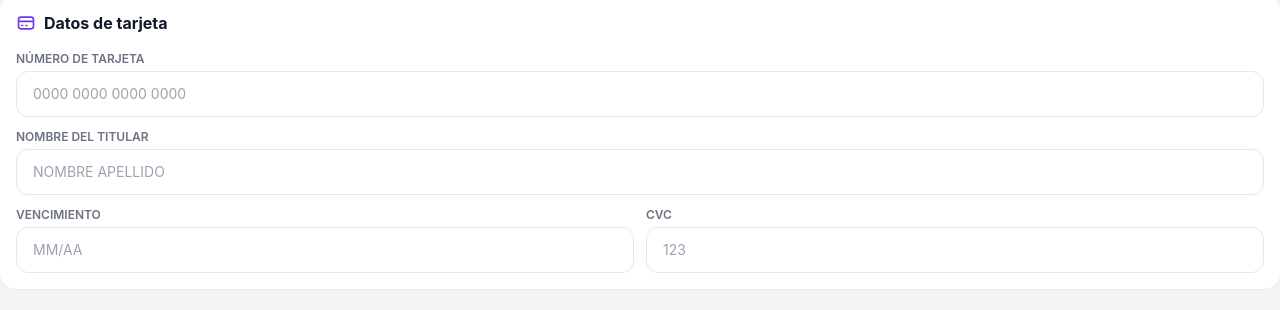
Test: CardForm › should show error on blur when card holder is too short
The image size is (1280, 310).
In the field with placeholder "NOMBRE APELLIDO": (640, 172) [16,149,1264,195], type "AB"
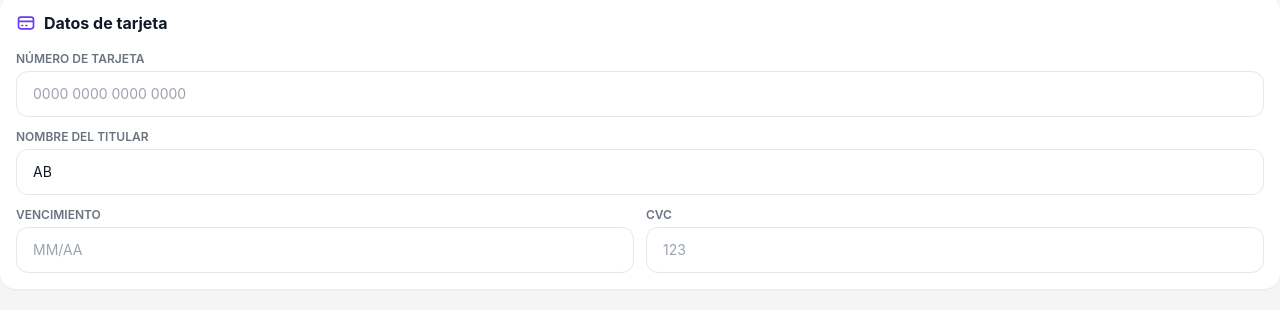
Leave the field with placeholder "NOMBRE APELLIDO", box [16,149,1264,195]
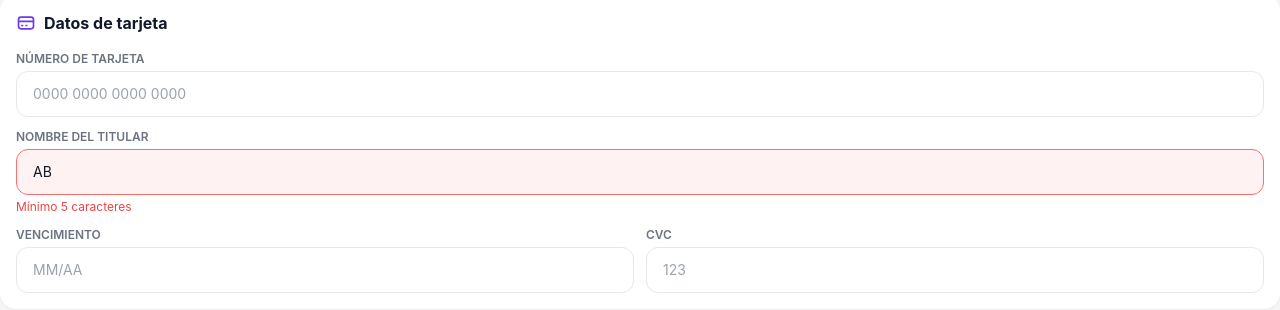
expect the text "Mínimo 5 caracteres" is shown: met, box [16,199,132,214]
